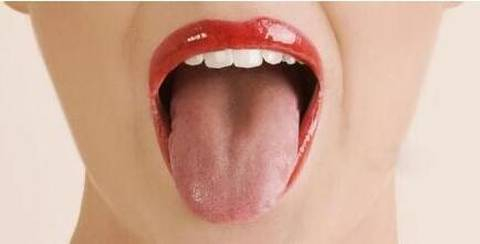baitaishe: (169, 67, 299, 223)
piweiao: (216, 76, 258, 160)
